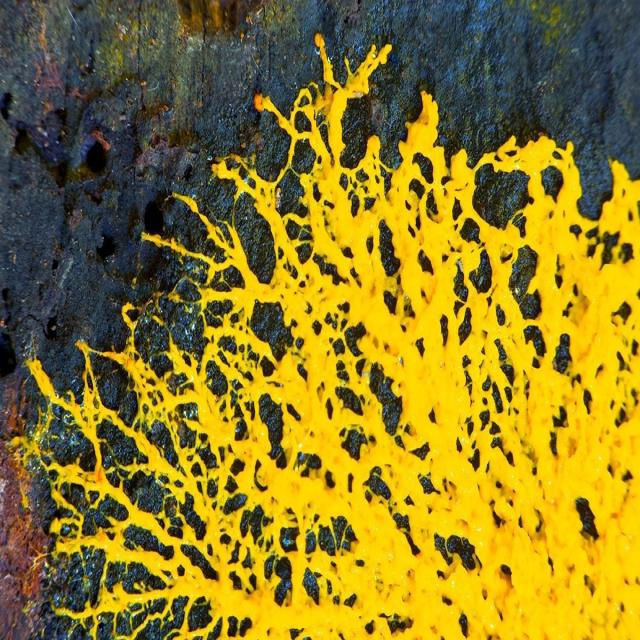Dog_vomit_slime_mold: (7, 27, 638, 638)
